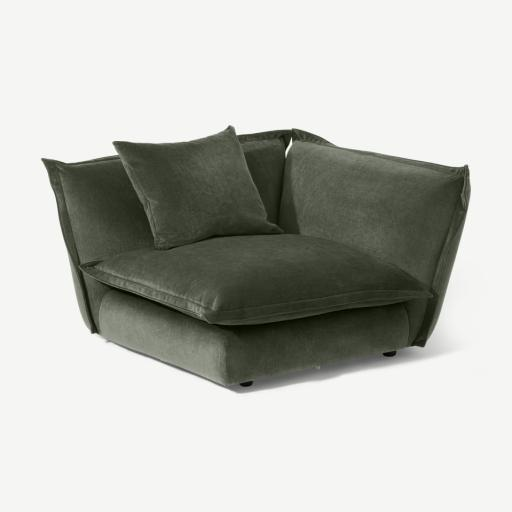back_cushion: (43, 126, 470, 346)
base: (100, 288, 424, 386)
one-seater: (42, 125, 470, 386)
seat_cushion: (82, 234, 430, 326)
